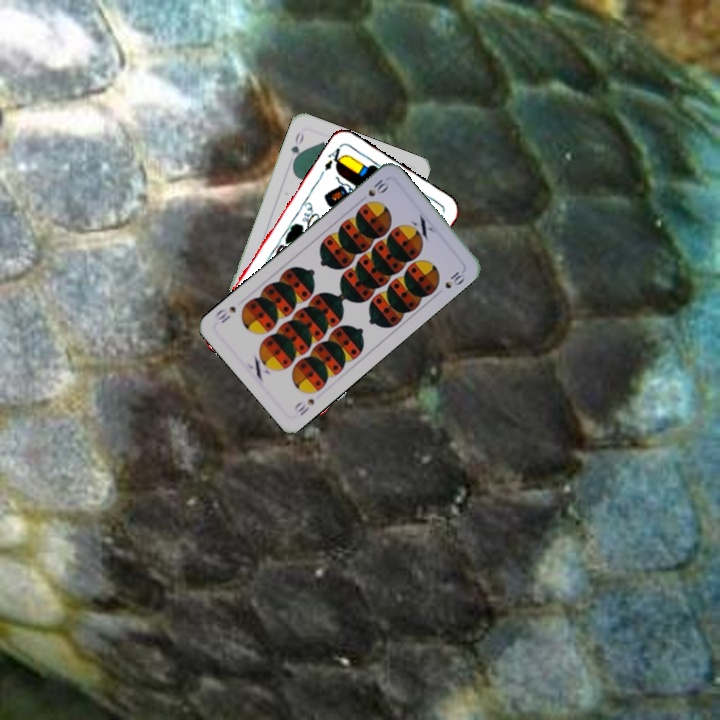EA: (320, 141, 348, 173)
GO: (287, 128, 307, 167)
S10: (290, 394, 317, 419), (364, 175, 391, 199)
